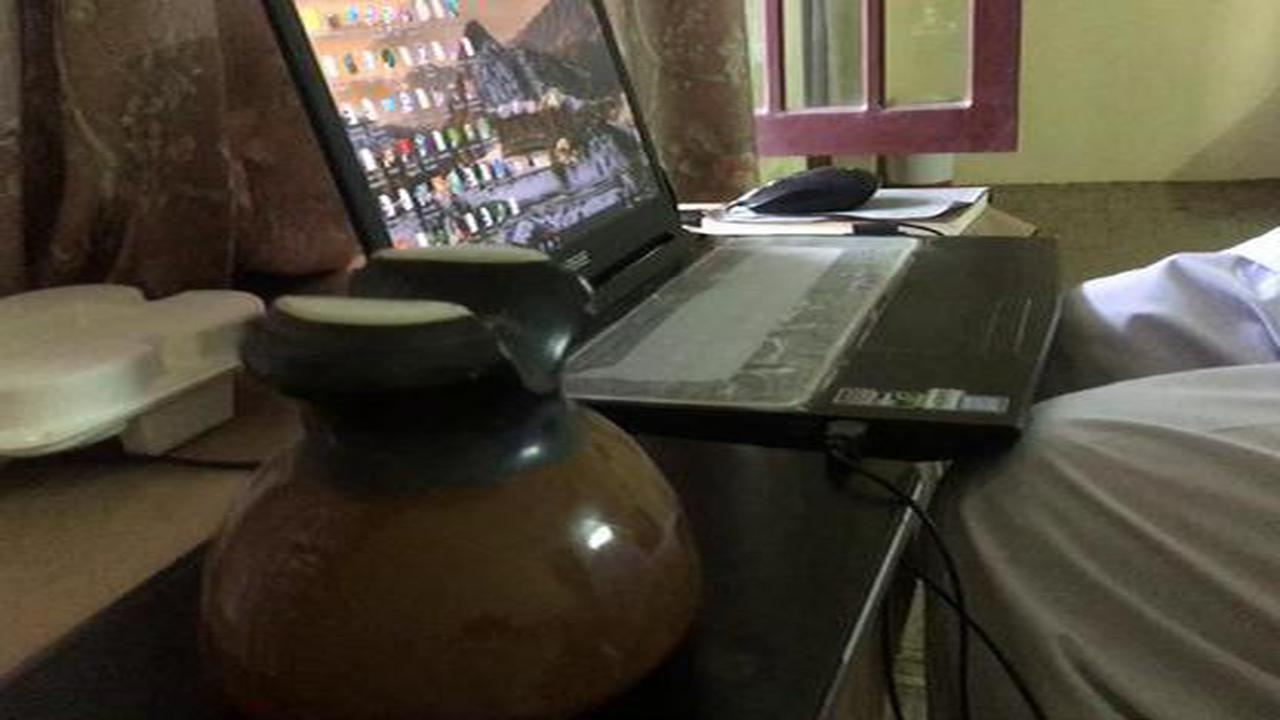insulator_pin: (182, 226, 733, 701)
